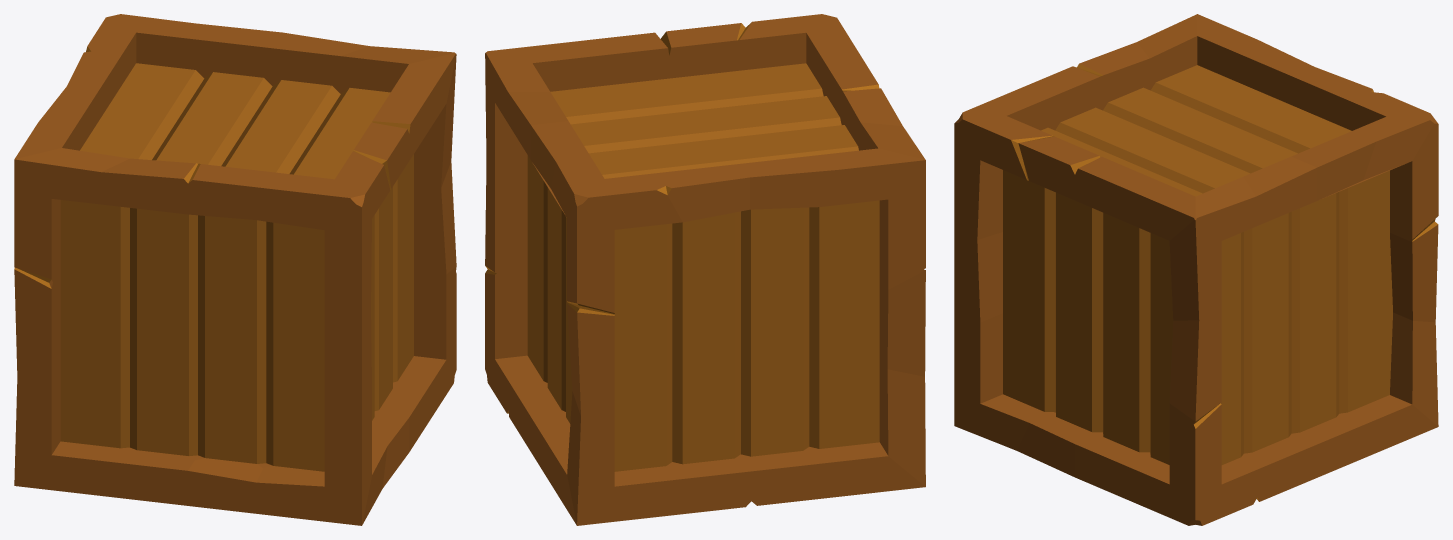
Rendered from Crate.fbx.
The picture shows the model from 3 angles, left to right: view 1: azimuth 30°, elevation 25°; view 2: azimuth 150°, elevation 25°; view 3: azimuth 270°, elevation 25°; orthographic projection. The views are drawn at different scales.
Parts seen in each view (by area): view 1: Crate.009; view 2: Crate.009; view 3: Crate.009.
Part boxes in pixels (left/top/right/bottom): Crate.009: left=14, top=14, right=456, bottom=525; Crate.009: left=485, top=14, right=925, bottom=525; Crate.009: left=954, top=14, right=1438, bottom=525.
Bounding box in the file's own units: 219 × 155 × 219.
